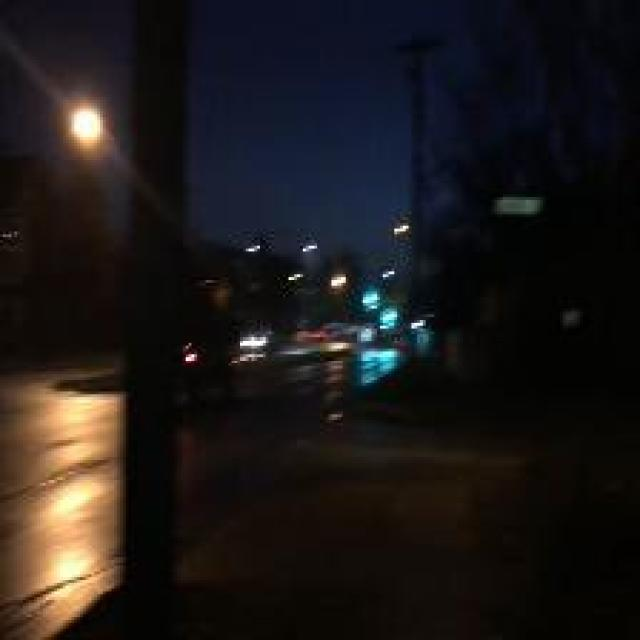other: (28, 94, 122, 162)
